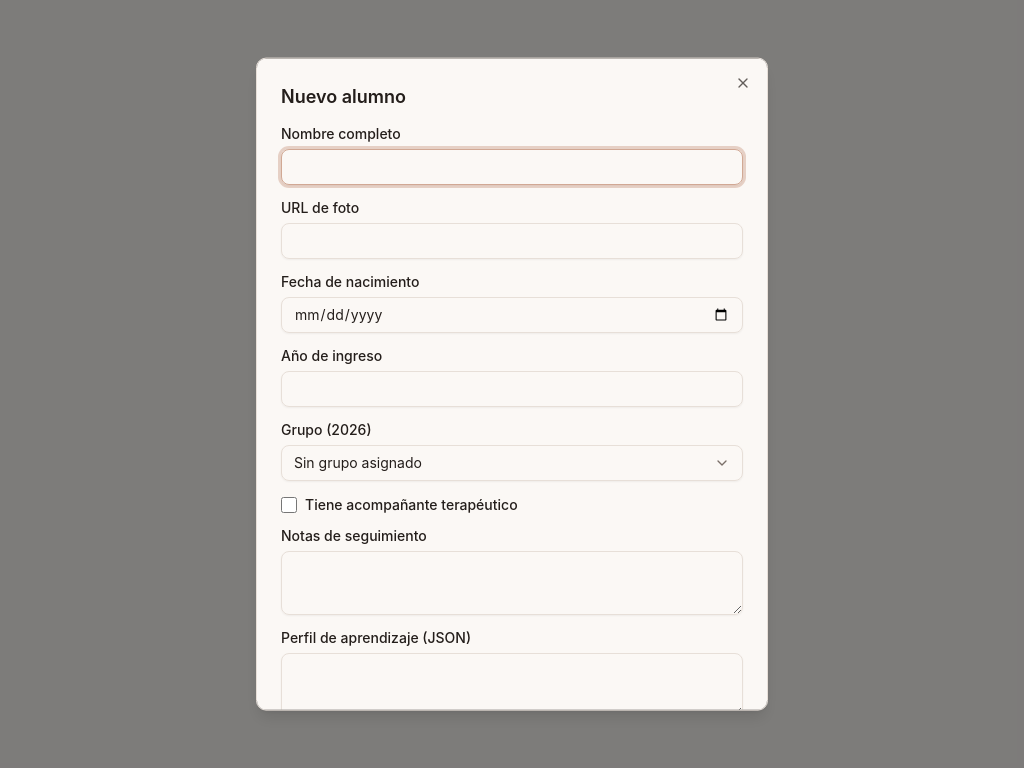
Test: StudentFormPage › rejects invalid JSON in a clinical field without submitting
Step 1. Type "Ana Gómez" into the field labelled "Nombre completo" → (512, 167), box [281,149,743,185]
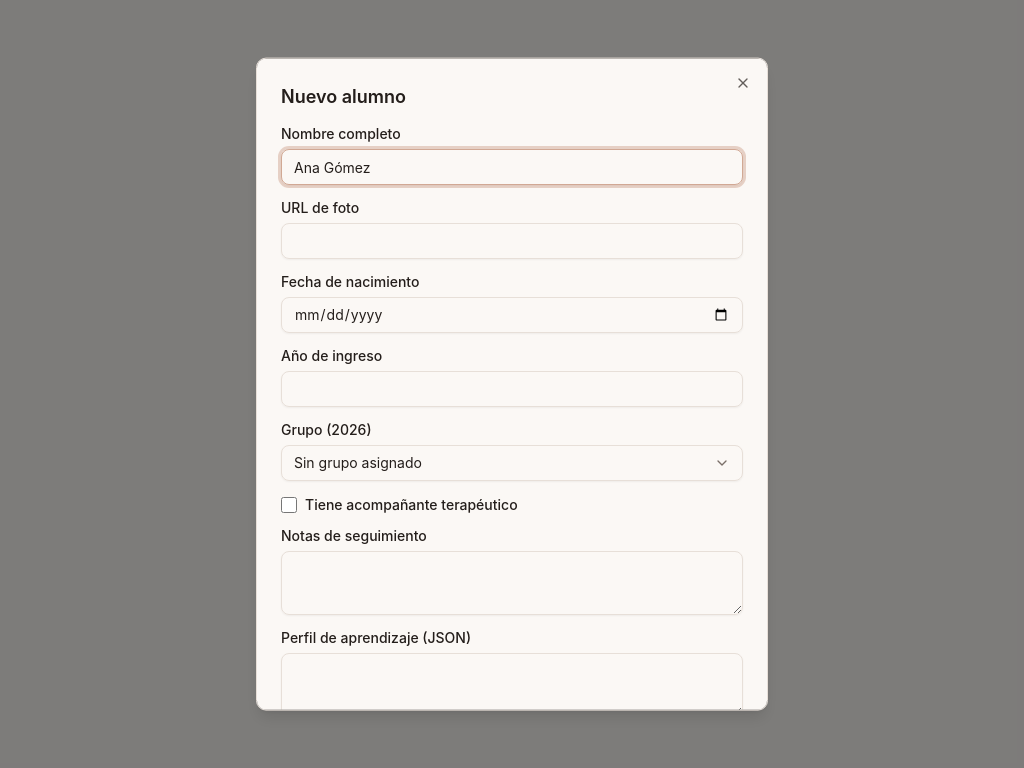
Step 2. Type "2026" into the number field labelled "Año de ingreso" → (512, 389), box [281,371,743,407]
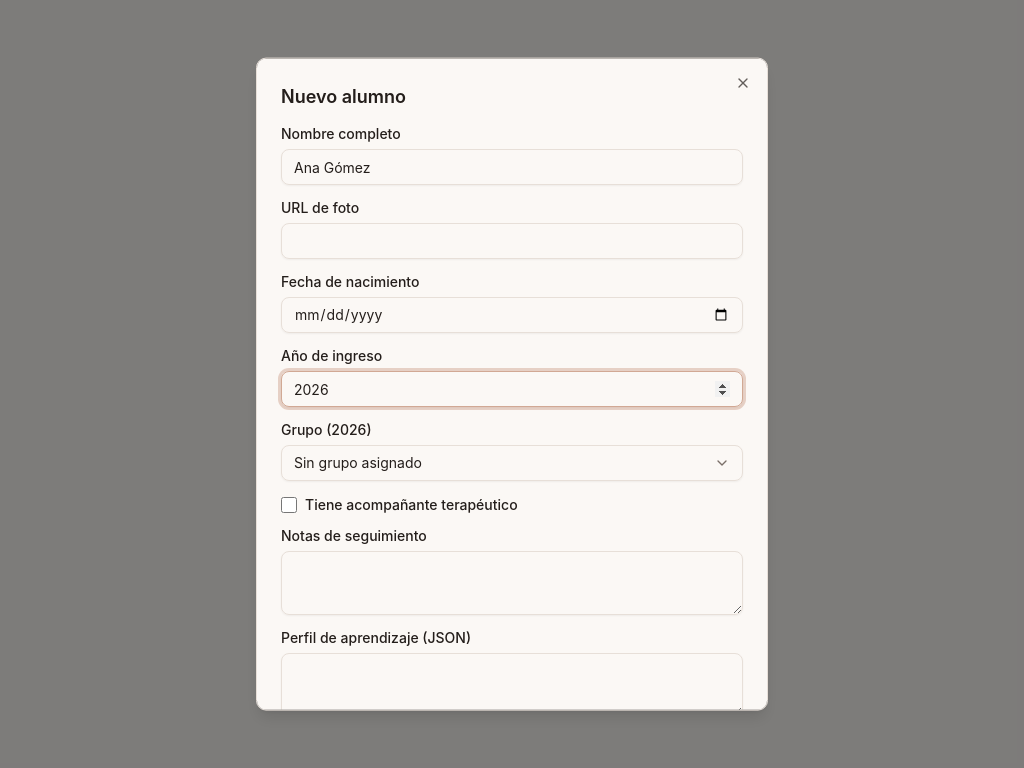
Step 3. Type "no es json" into the text box labelled "Perfil de aprendizaje (JSON)" → (512, 685), box [281,653,743,717]
(page scrolled)
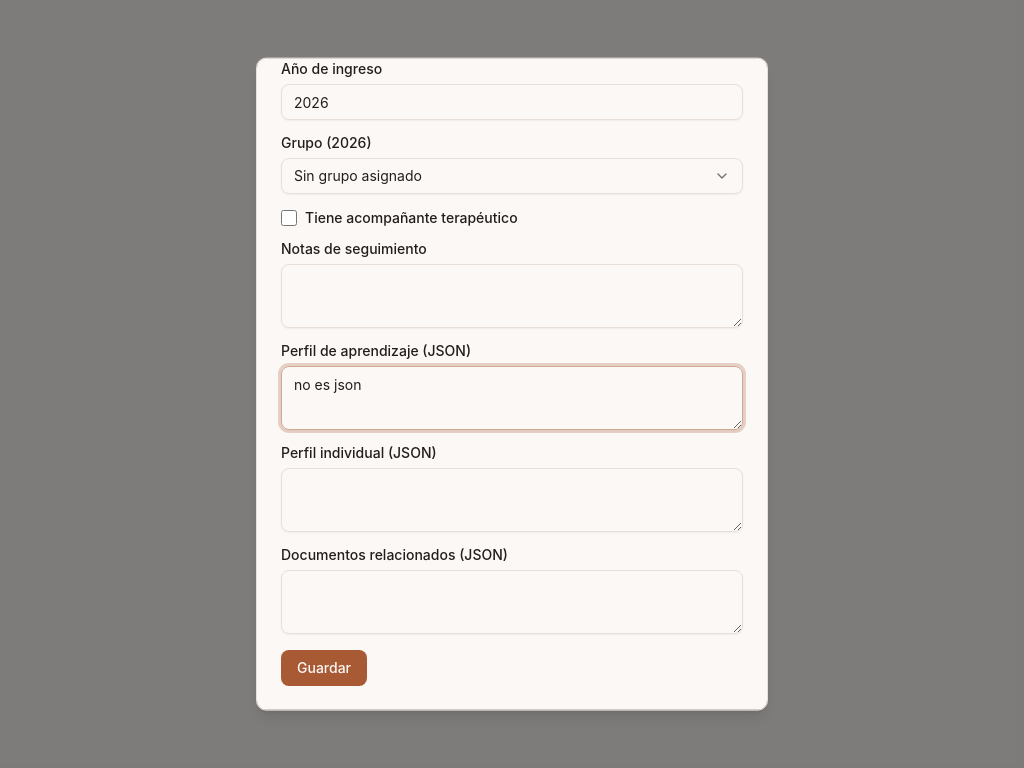
Step 4. Click the button "Guardar" → (324, 668), box [281,650,367,686]
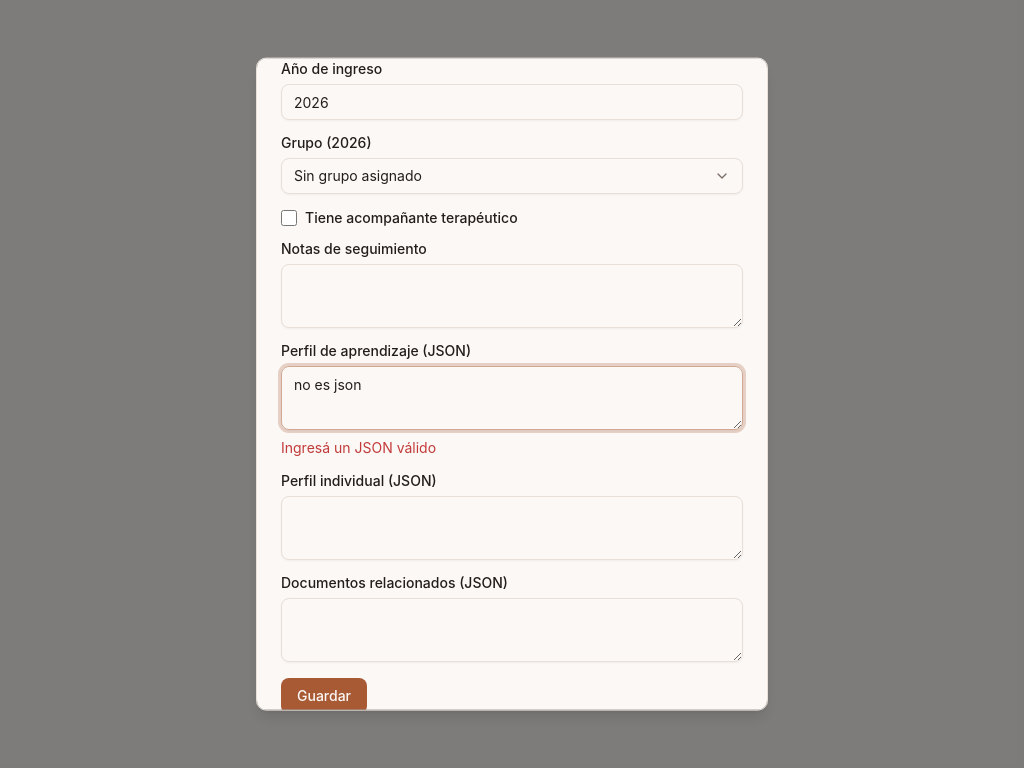
expect the text "Ingresá un JSON válido" is shown: met, box [281,439,436,456]
